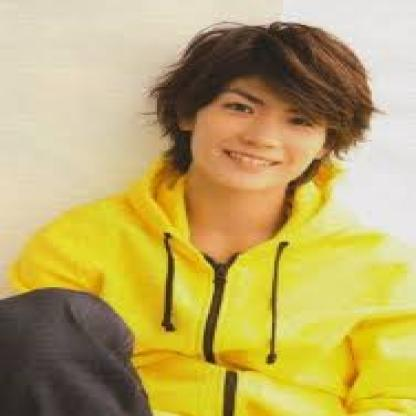person: (170, 21, 371, 189)
